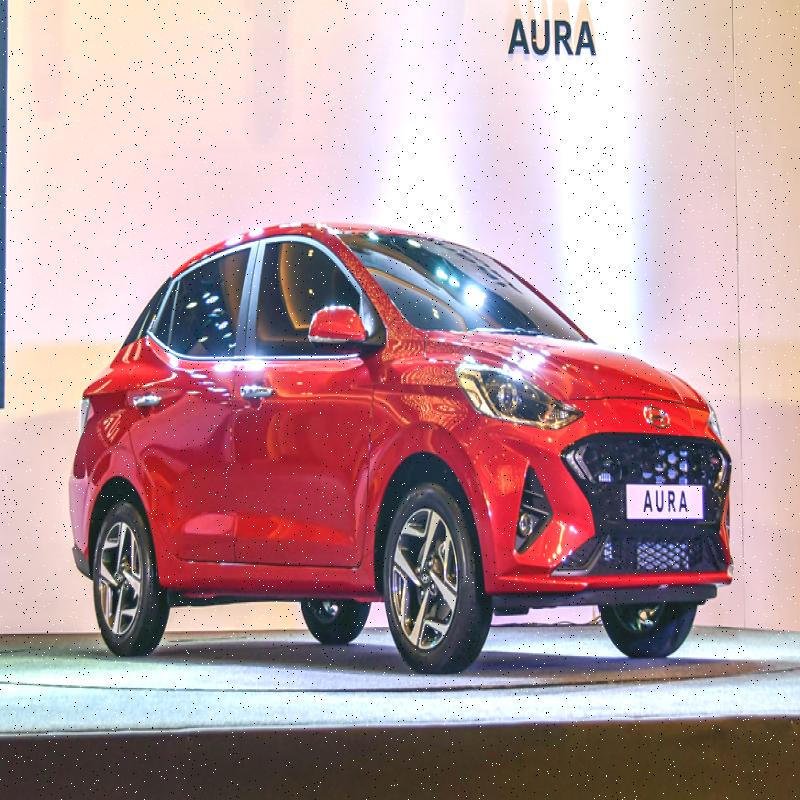car: (51, 198, 735, 653)
